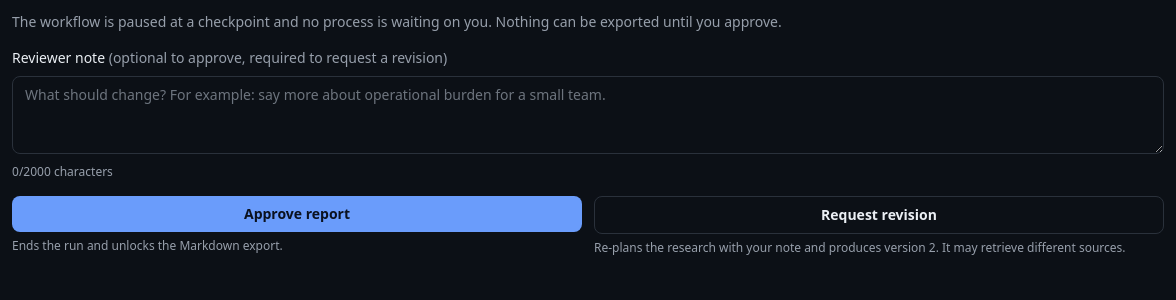
Scenario: ApprovalPanel › refuses a revision with no note, and says why
The image size is (1176, 300).
What coordinates should you click on to do the following:
click the button "Request revision"
I would click on:
 (879, 215)
Its box is [594,196,1164,234].
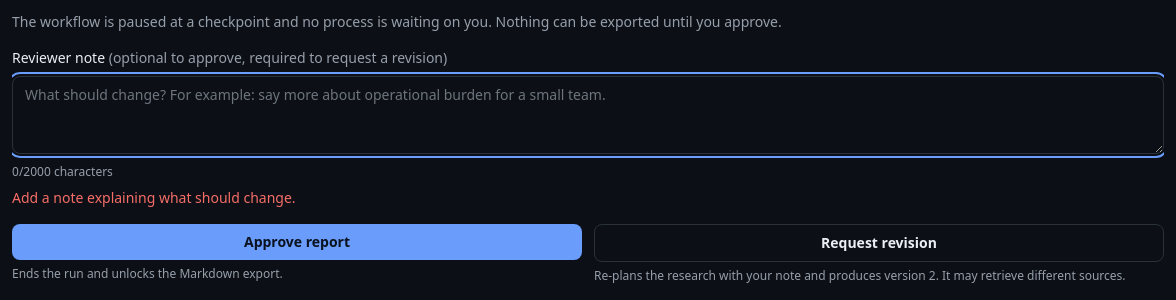
Now the message shows "explaining what should change", box [12,188,296,207]
